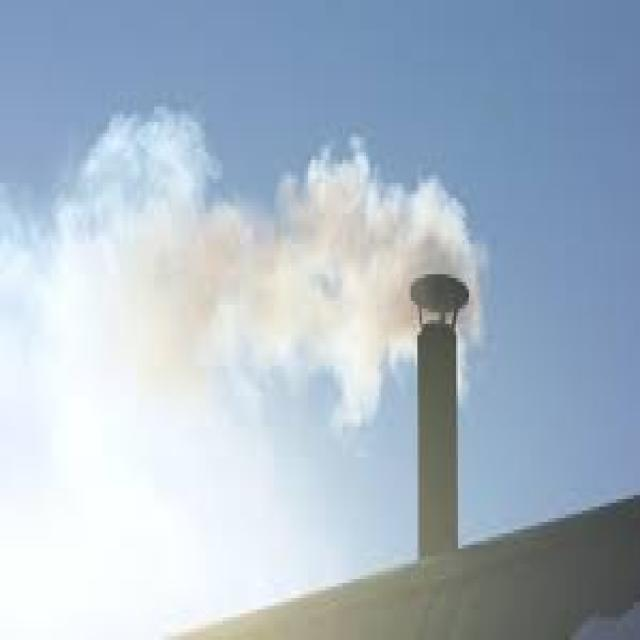Smoke: (0, 99, 490, 640)
